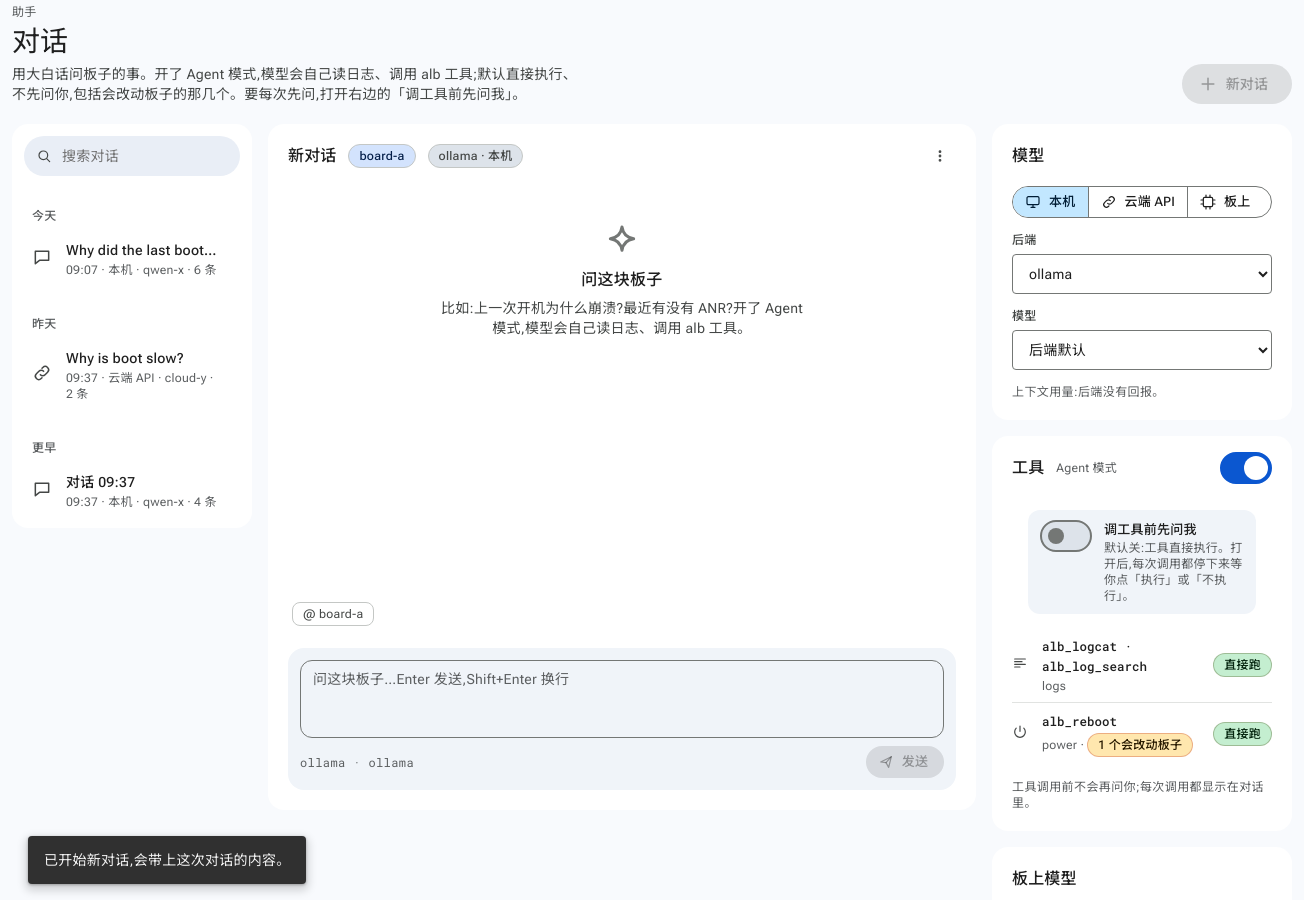
Test case: Chat page › an unreadable session says so with a retry
Click the button "对话 09:37".
click(142, 482)  # box [66,472,218,492]
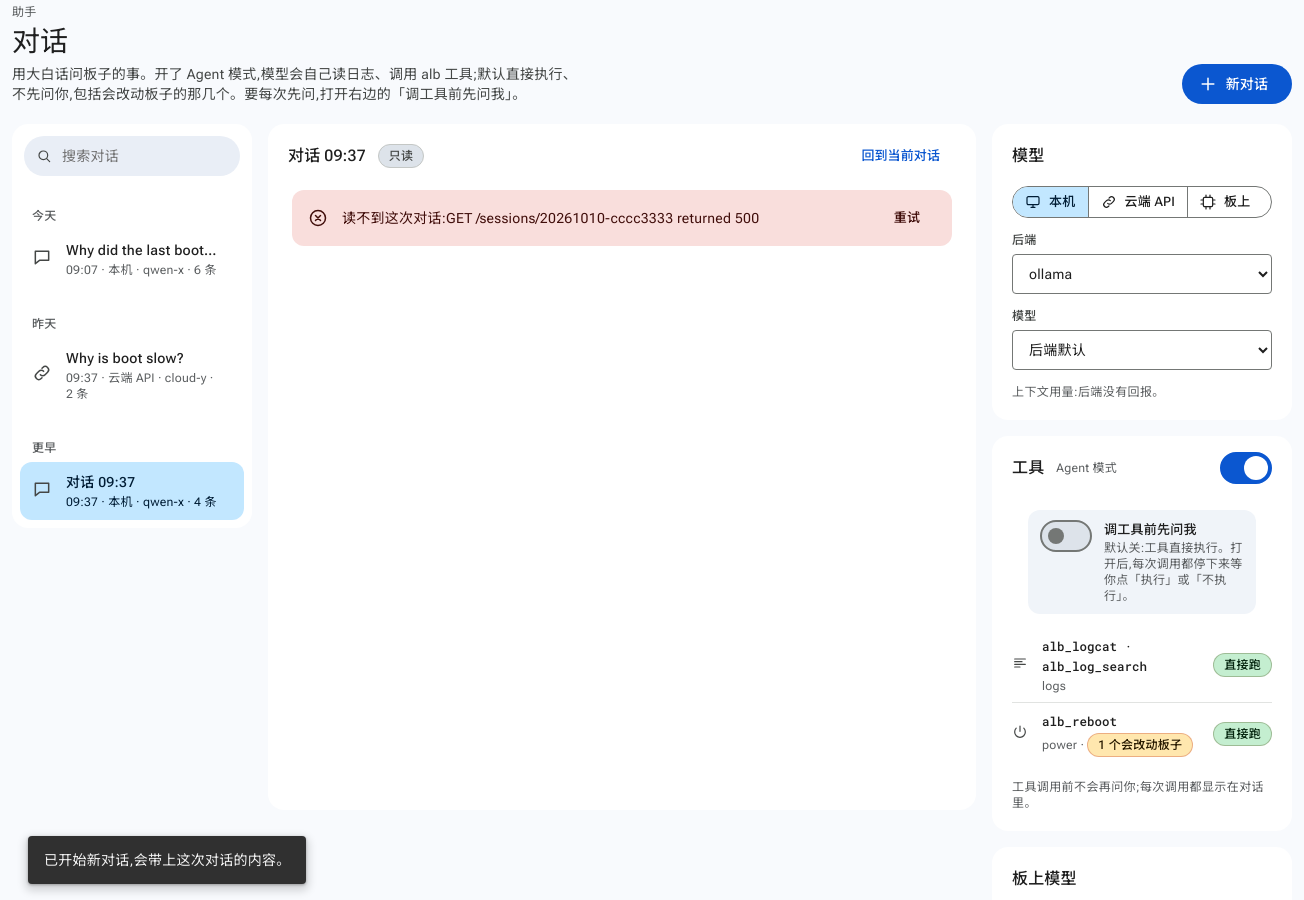
Expected: the text "读不到这次对话:GET /sessions/20261010-cccc3333 returned 500" is shown, [342,210,759,226]
